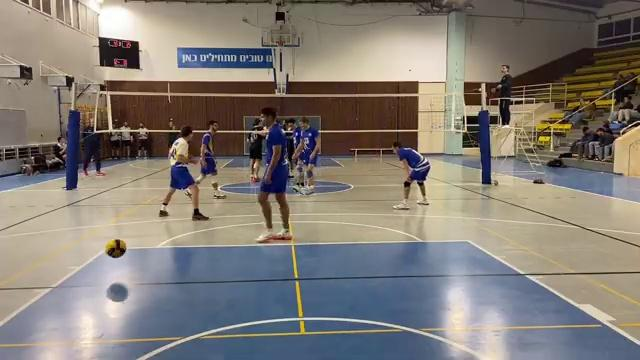ball: (101, 237, 133, 259)
